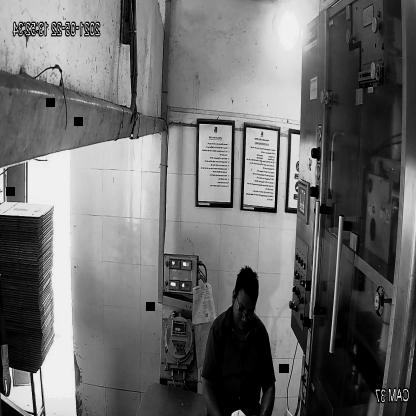goggles: (234, 298, 256, 324)
